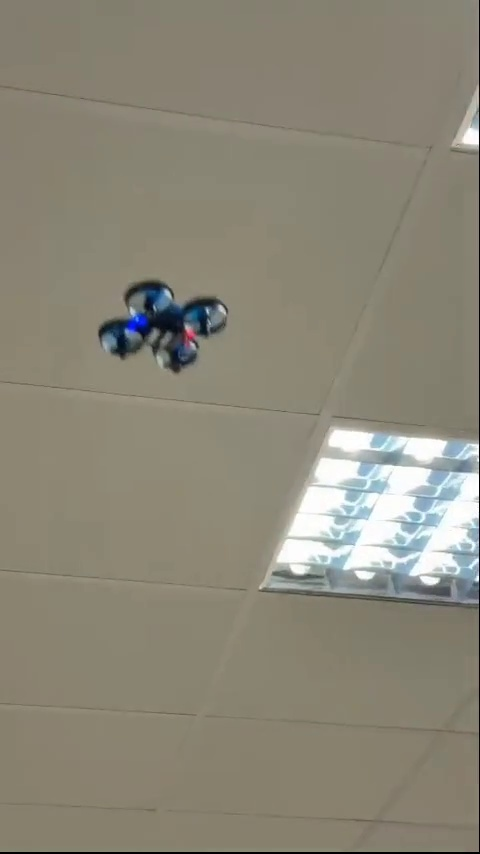drone: (96, 279, 228, 381)
